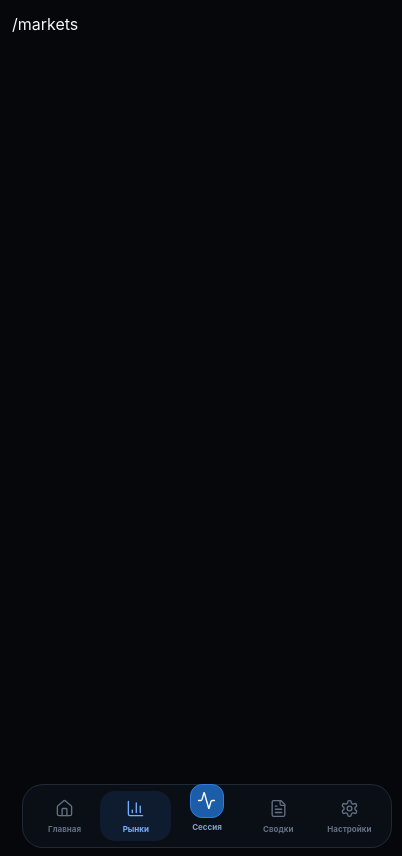
Scenario: BottomNav › keeps session navigation inside the SPA
Click the link "Сессия" at [207, 808], box [190,784,224,832]
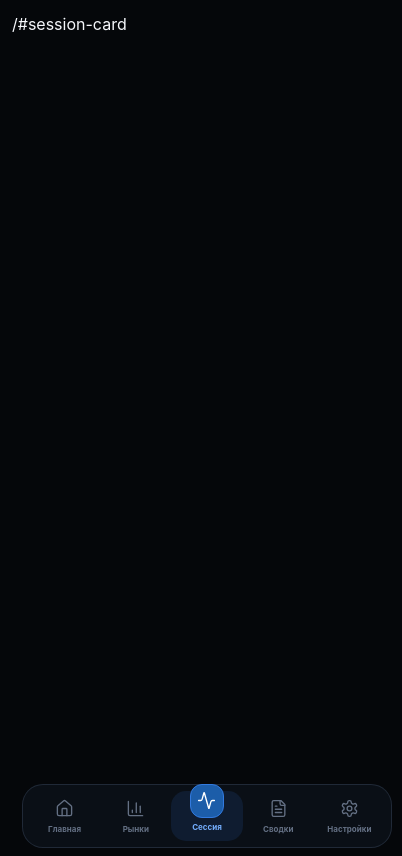
expect the text named "Текущий маршрут" reads "/#session-card": met, box [12,14,127,34]
